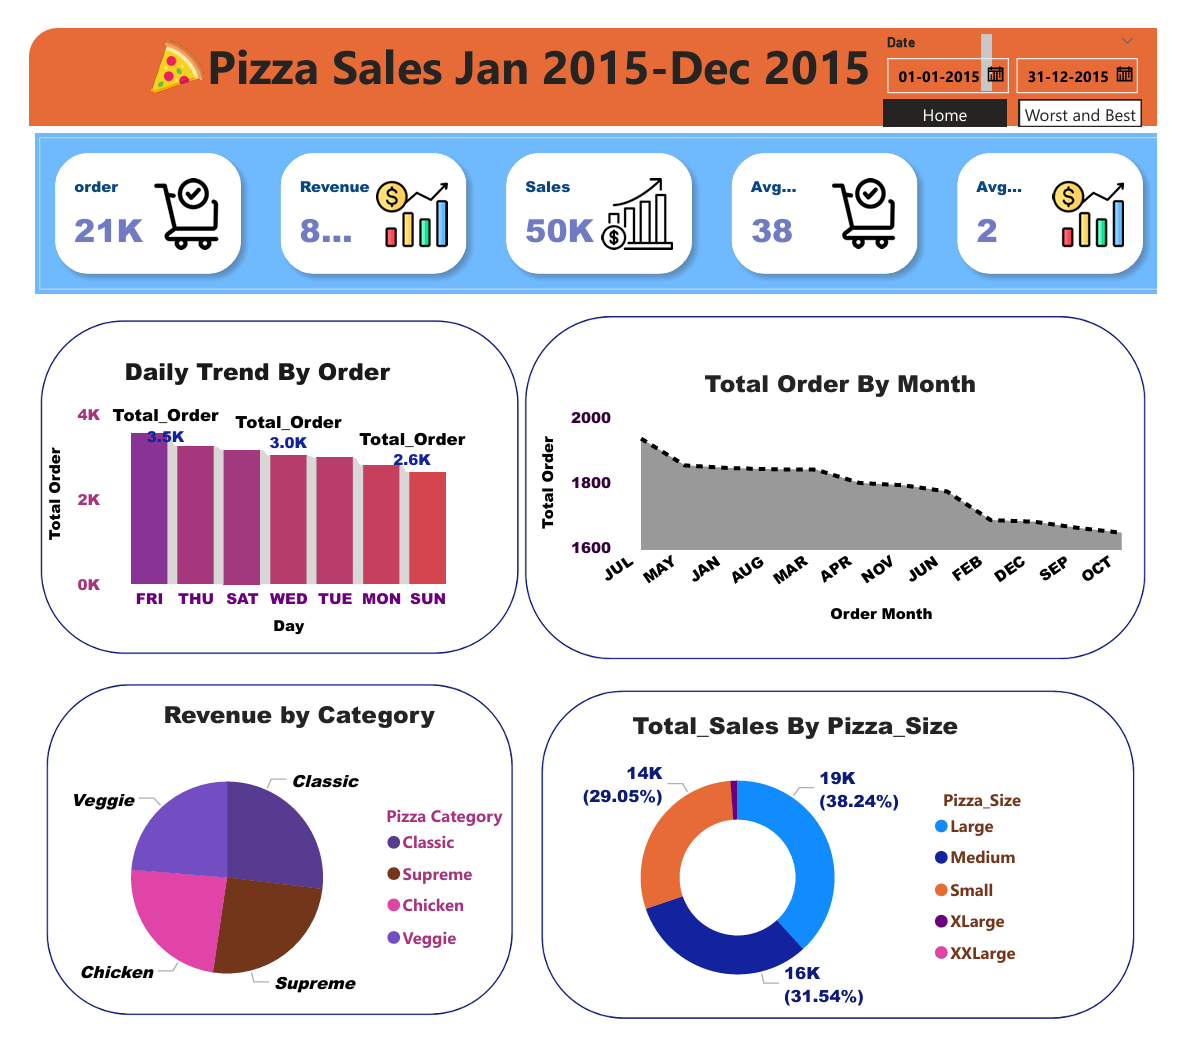

What the dashboard file says about the page in this screenshot:
{"tool":"powerbi","page":{"name":"Home","canvas":[900,800],"ordinal":0},"visuals":[{"type":"shape","box":[0,0,939,92],"z":0},{"type":"textbox","box":[137,0,636,57],"z":1000},{"type":"image","box":[66,5,105,52],"z":2000},{"type":"cardVisual","fields":{"Data":["Pizza.Total_Order","Pizza.total_revenue","Pizza.Total_sales","Pizza.average_order","Pizza.average_pizza_per_order"]},"box":[0,79,911,138],"z":3000},{"type":"columnChart","title":"Daily Trend By Order","fields":{"Category":["Pizza.order_day"],"Y":["Pizza.Total_Order"]},"box":[11,260,342,231],"z":4000},{"type":"shape","box":[0,224,400,285],"z":5000},{"type":"areaChart","title":"Total Order By Month","fields":{"Category":["Pizza.order_Month"],"Y":["Pizza.Total_Order"]},"box":[404,270,487,211],"z":6000},{"type":"shape","box":[387,221,513,292],"z":7000},{"type":"slicer","fields":{"Values":["Pizza.order_date"]},"box":[672,0,222,64],"z":8000},{"type":"pieChart","title":"Revenue by Category","fields":{"Y":["Pizza.total_revenue"],"Category":["Pizza.pizza_category"]},"box":[26,534,379,263],"z":9000},{"type":"shape","box":[5,515,390,282],"z":10000},{"type":"donutChart","title":"Total_Sales By Pizza_Size","fields":{"Y":["Pizza.Total_sales"],"Category":["Pizza.pizza_size"]},"box":[404,543,415,245],"z":11000},{"type":"shape","box":[400,520,491,280],"z":12000},{"type":"pageNavigator","box":[682,57,207,22],"z":14000}]}

Visuals, with their boxes in screenshot pixels (x1, y1, x2, y2), scaled from the page's 900x800 canvas onto the 1184x1057 screenshot:
shape: bbox=(0, 0, 1183, 122)
textbox: bbox=(180, 0, 1017, 75)
image: bbox=(87, 7, 225, 75)
cardVisual - Pizza.Total_Order x Pizza.total_revenue: bbox=(0, 104, 1183, 287)
"Daily Trend By Order" columnChart: bbox=(14, 344, 464, 649)
shape: bbox=(0, 296, 526, 673)
"Total Order By Month" areaChart: bbox=(531, 357, 1172, 636)
shape: bbox=(509, 292, 1183, 678)
slicer - Pizza.order_date: bbox=(884, 0, 1176, 85)
"Revenue by Category" pieChart: bbox=(34, 706, 533, 1053)
shape: bbox=(7, 680, 520, 1053)
"Total_Sales By Pizza_Size" donutChart: bbox=(531, 717, 1077, 1041)
shape: bbox=(526, 687, 1172, 1056)
pageNavigator: bbox=(897, 75, 1170, 104)
